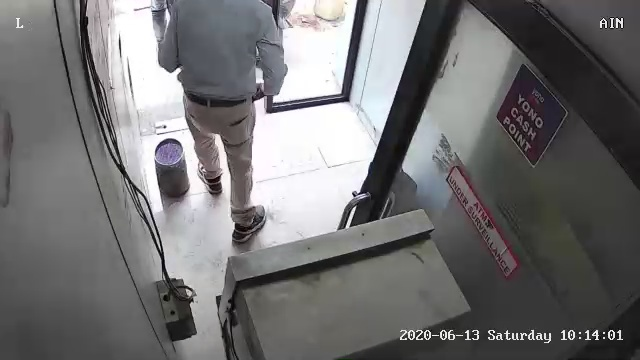open: (351, 2, 635, 353)
